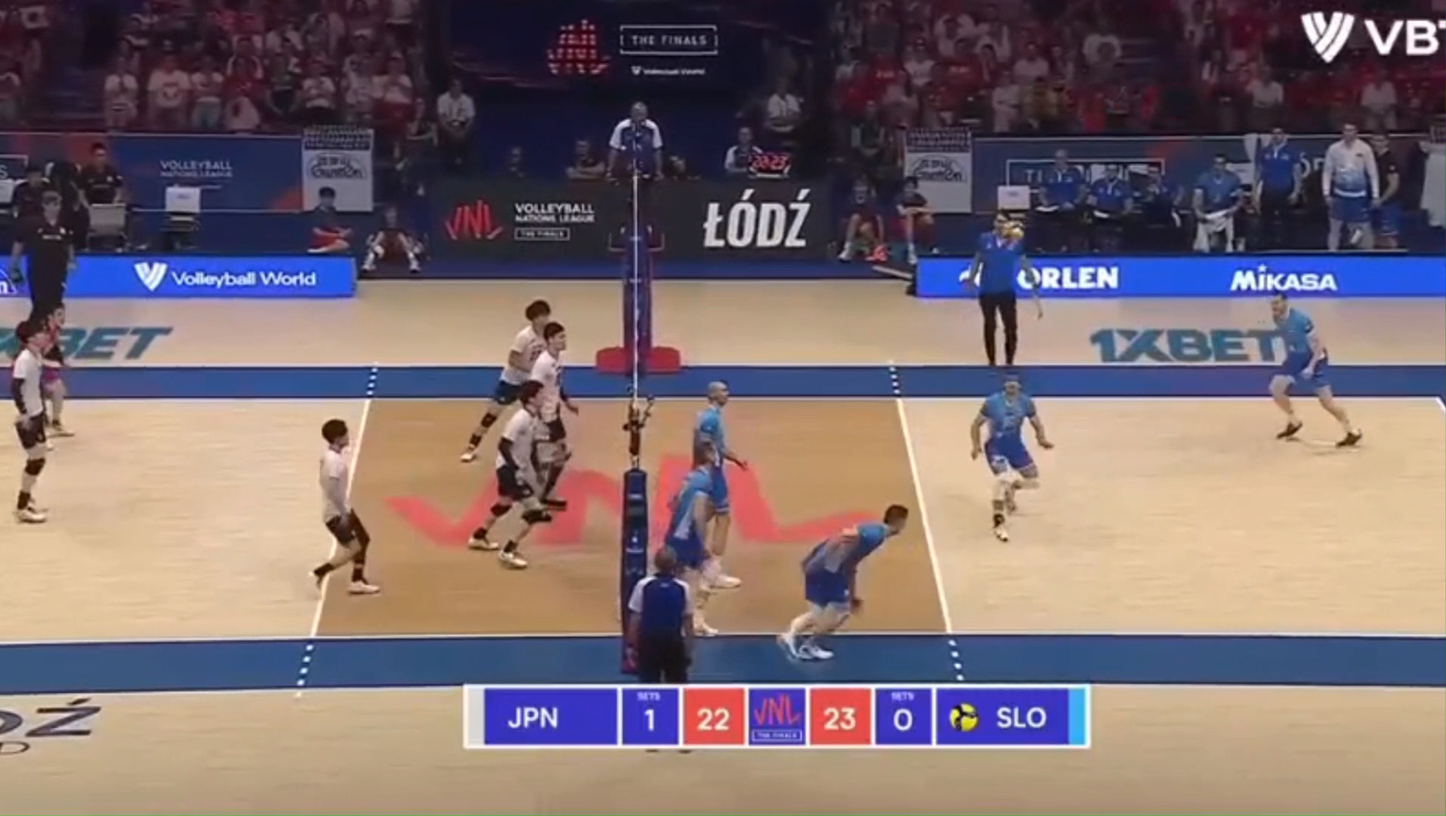ball: (1004, 221, 1022, 240)
player: (779, 504, 909, 660), (1270, 292, 1362, 446), (970, 376, 1052, 540), (663, 437, 721, 636), (693, 381, 747, 557), (708, 568, 740, 589)
player 1: (468, 380, 552, 569), (459, 300, 551, 462), (311, 418, 379, 595), (10, 319, 52, 524), (530, 321, 576, 508), (41, 306, 73, 437)
referee: (967, 215, 1038, 366), (627, 546, 694, 683), (608, 102, 664, 251), (11, 190, 74, 322)
